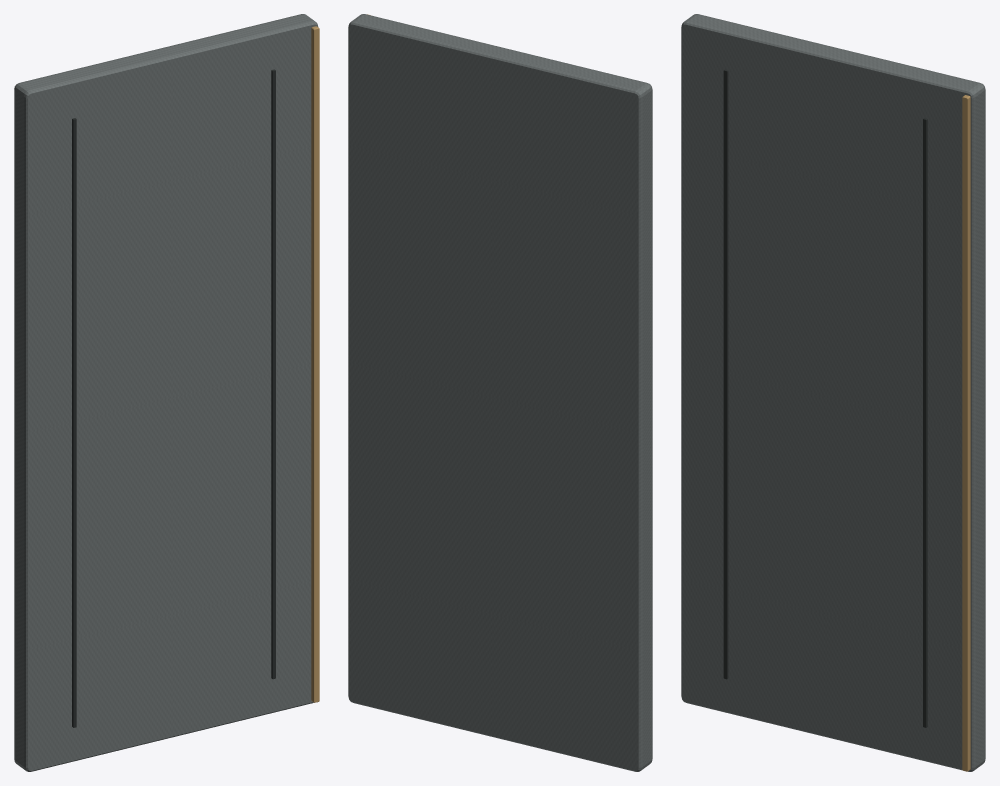
Rendered from door-left.glb.
3 views of the same model, side by side, from view 1: azimuth 30°, elevation 25°; view 2: azimuth 150°, elevation 25°; view 3: azimuth 330°, elevation 25° (orthographic).
Parts seen in each view (by area): view 1: panel, edge, inset--0.48, inset-0.48; view 2: panel; view 3: panel, edge, inset--0.48, inset-0.48.
Part boxes in pixels (x1=…): panel: x1=14, y1=14, x2=318, y2=771; edge: x1=311, y1=26, x2=319, y2=702; inset--0.48: x1=72, y1=118, x2=76, y2=727; inset-0.48: x1=271, y1=69, x2=275, y2=679; panel: x1=348, y1=14, x2=652, y2=771; panel: x1=681, y1=14, x2=985, y2=771; edge: x1=962, y1=95, x2=970, y2=771; inset--0.48: x1=723, y1=69, x2=728, y2=679; inset-0.48: x1=923, y1=118, x2=927, y2=727.
Bounding box in the file's own units: 1.41 × 3.14 × 0.1355.
Materials: 3 (1 with a texture image).
